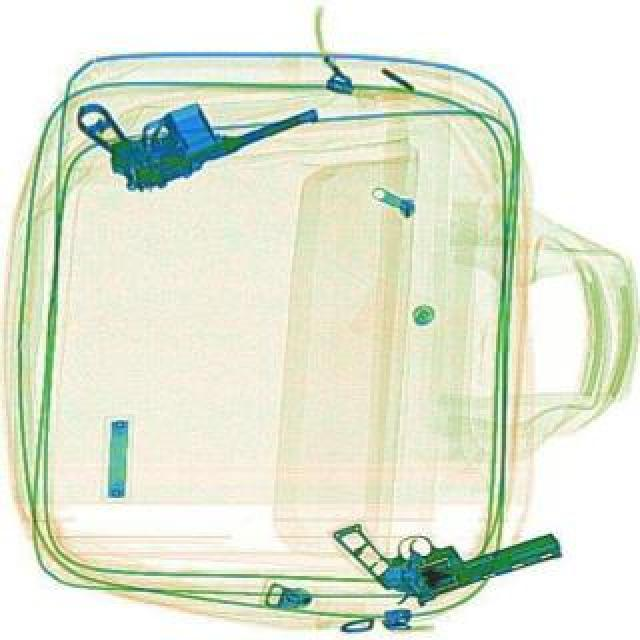gun: (68, 22, 324, 206), (332, 468, 564, 624)
